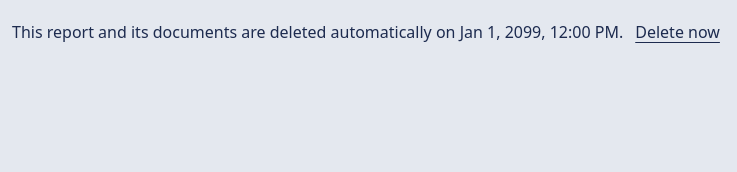
Test: deleting a report › deletes the report, forgets it in this browser and goes to the start page
What coordinates should you click on to do the following:
click the button "Delete now"
I would click on:
 (678, 32)
Its box is 635,20 -> 720,44.
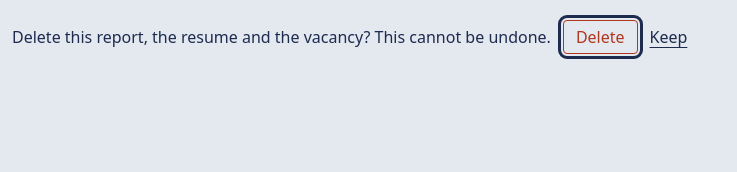
What coordinates should you click on to do the following:
click the button "Delete"
I would click on:
 (600, 37)
Its box is 563,20 -> 638,54.
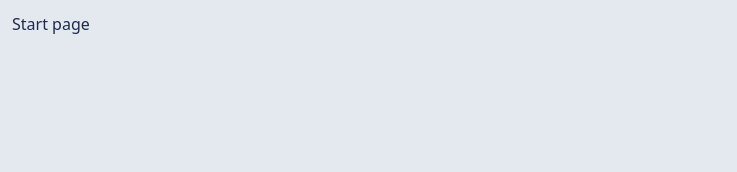
Now the text "Start page" is shown, box 12,13 -> 90,35
